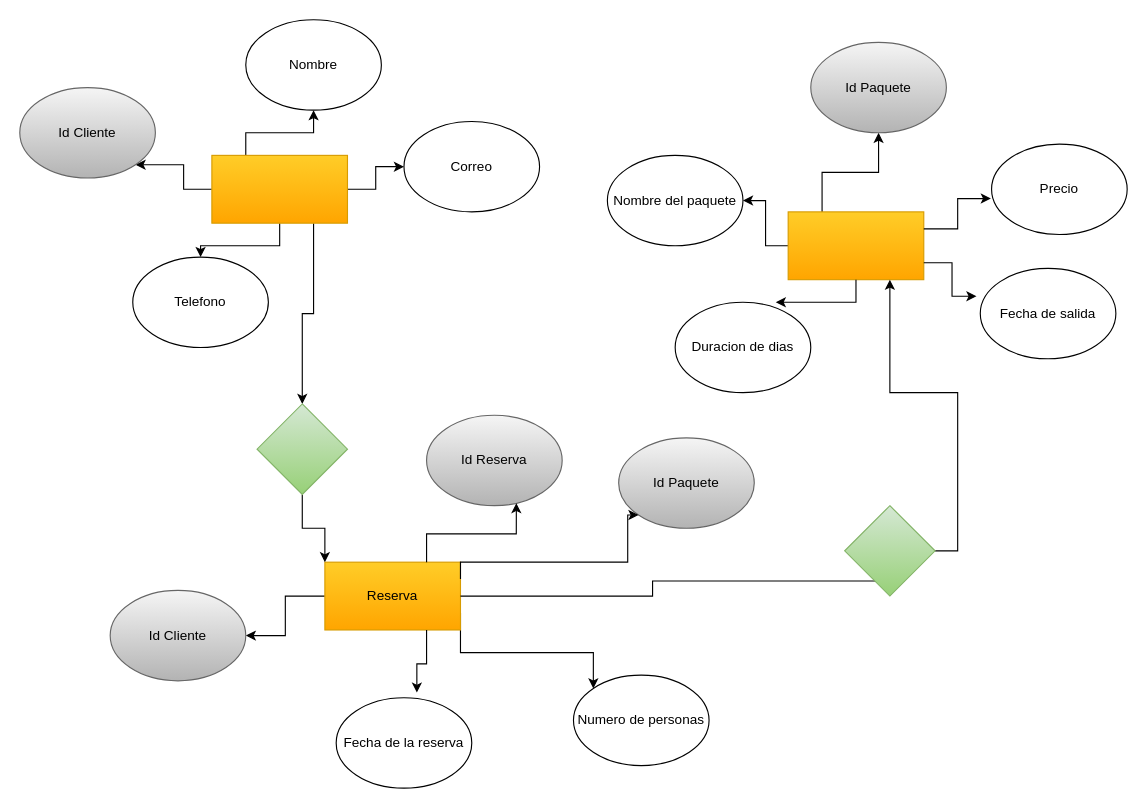
The diagram is 1147 pixels wide and 808 high, and some of its shapes have lost their labels. Each missing label, with the centre of its shape:
Cliente: [279,188]
Incuye: [889,550]
Paquete: [855,245]
Realiza: [301,448]
